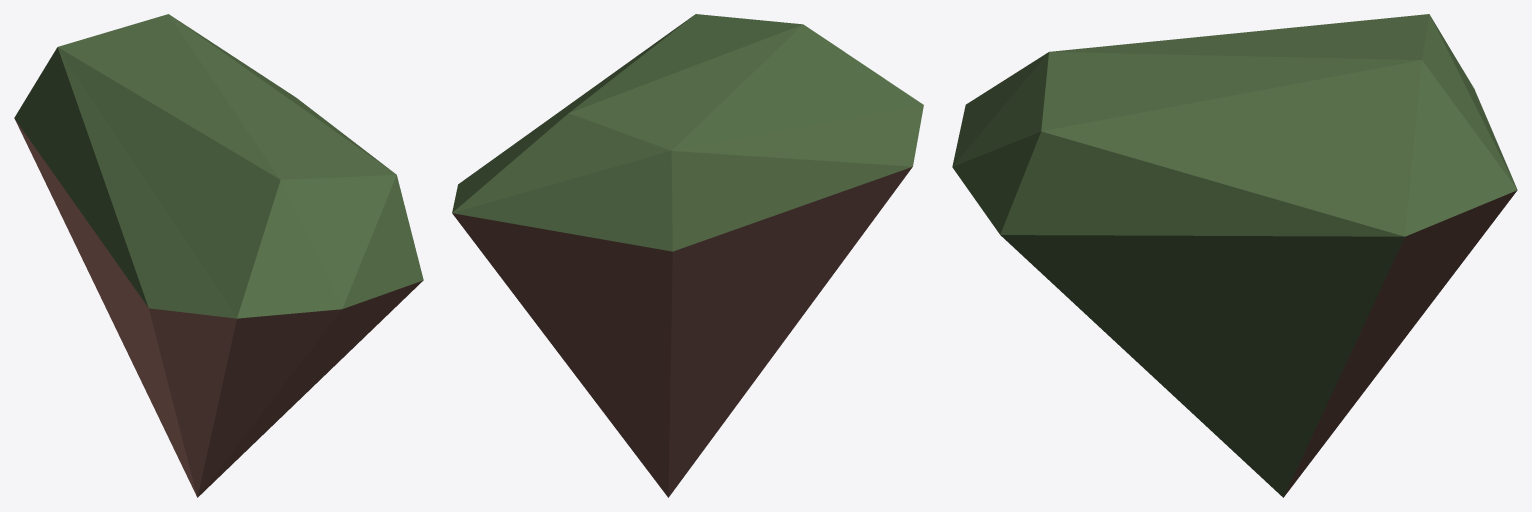
File: CommonTree_1.lod4.glb
3 renders of one model, left to right at view 1: azimuth 30°, elevation 25°; view 2: azimuth 150°, elevation 25°; view 3: azimuth 270°, elevation 25°, orthographic. The views are drawn at different scales.
Visible parts, largest first — view 1: CommonTree_1; view 2: CommonTree_1; view 3: CommonTree_1.
Part boxes in pixels (box(x1,y1,x2,y2)): CommonTree_1: box(14, 14, 423, 497); CommonTree_1: box(452, 14, 923, 497); CommonTree_1: box(952, 14, 1517, 497).
Bounding box in the file's own units: 1.89 × 2.55 × 2.86.
